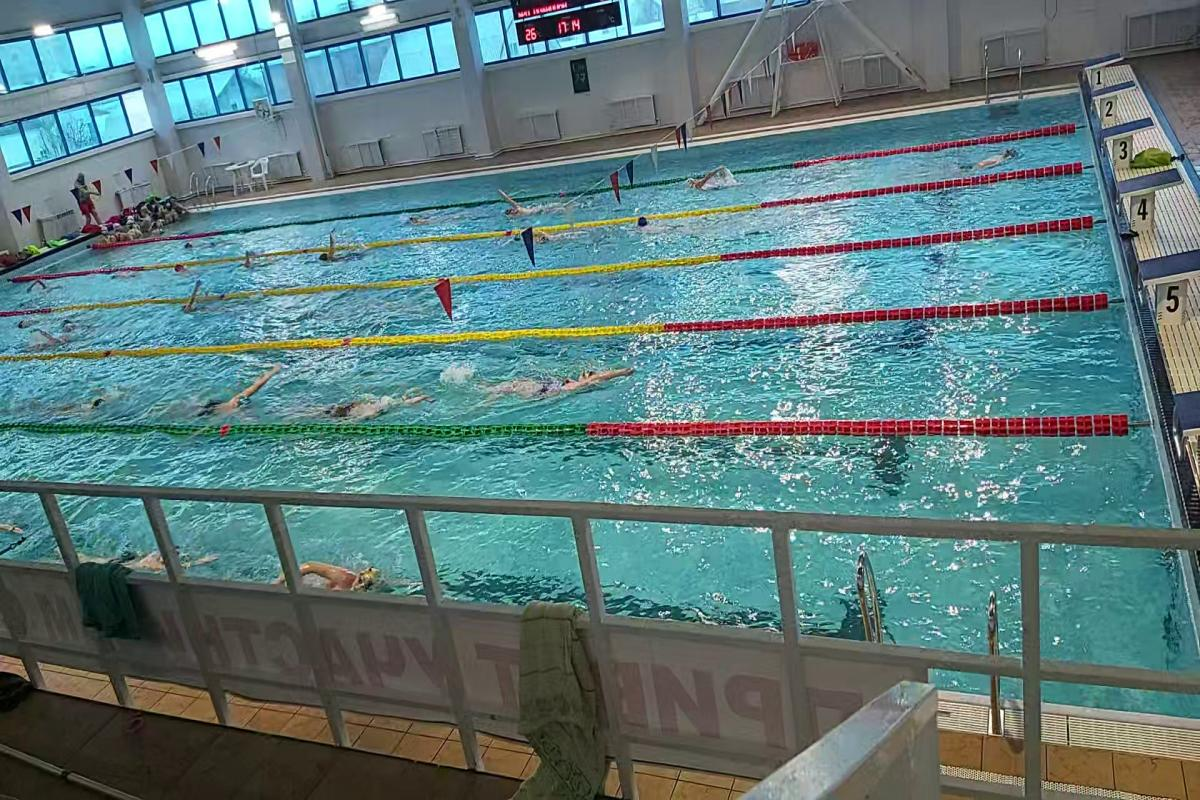swimmer: (251, 535, 394, 592), (474, 357, 640, 404), (180, 369, 281, 421), (310, 382, 440, 422), (64, 525, 162, 568), (46, 381, 119, 420), (490, 185, 578, 216), (315, 230, 366, 264), (178, 276, 220, 316), (949, 149, 1023, 171), (635, 212, 698, 234), (680, 169, 734, 192), (400, 207, 464, 226), (30, 324, 72, 352), (238, 245, 271, 273), (168, 260, 198, 276)
